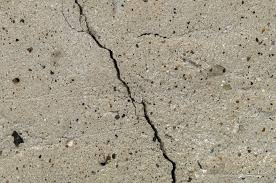crack: (72, 0, 177, 182), (59, 0, 85, 32), (136, 30, 168, 38)
